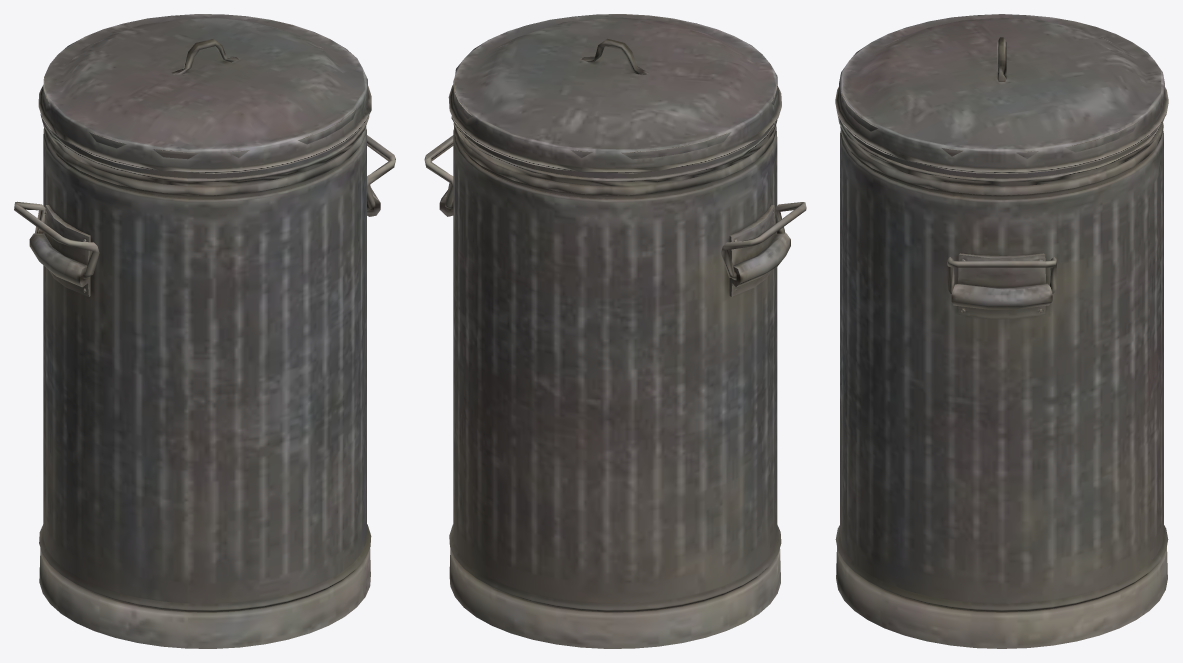
File: trash_can.glb
3 views of the same model, side by side, from view 1: azimuth 30°, elevation 25°; view 2: azimuth 150°, elevation 25°; view 3: azimuth 270°, elevation 25° (orthographic).
Parts seen in each view (by area): view 1: trash_can; view 2: trash_can; view 3: trash_can.
Part boxes in pixels (x1=…): trash_can: x1=14, y1=14, x2=395, y2=648; trash_can: x1=424, y1=14, x2=806, y2=648; trash_can: x1=835, y1=14, x2=1168, y2=648.
Bounding box in the file's own units: 0.6494 × 0.9847 × 0.5543.
Materials: 1 (1 with a texture image).
